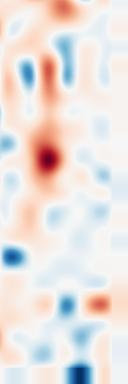filament: (26, 136, 71, 179)
